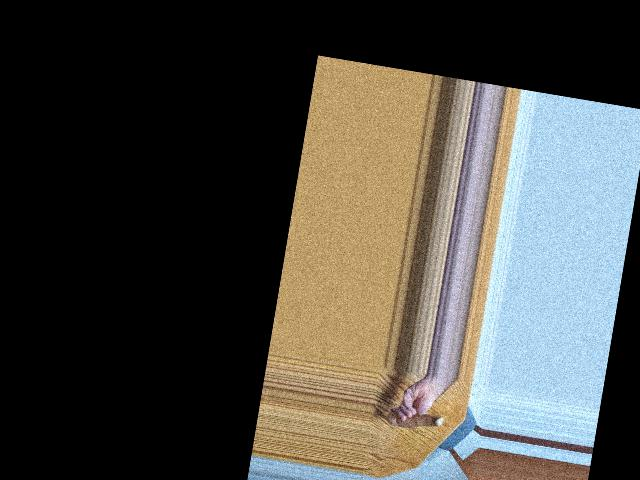sweet_potato: (385, 402, 443, 435)
